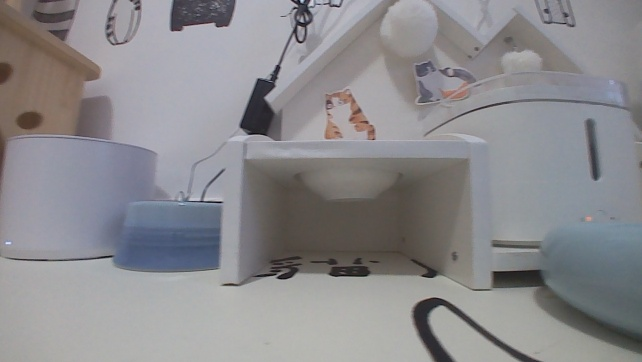blanket: (0, 247, 639, 361)
wire: (267, 0, 315, 83), (195, 167, 223, 199)
